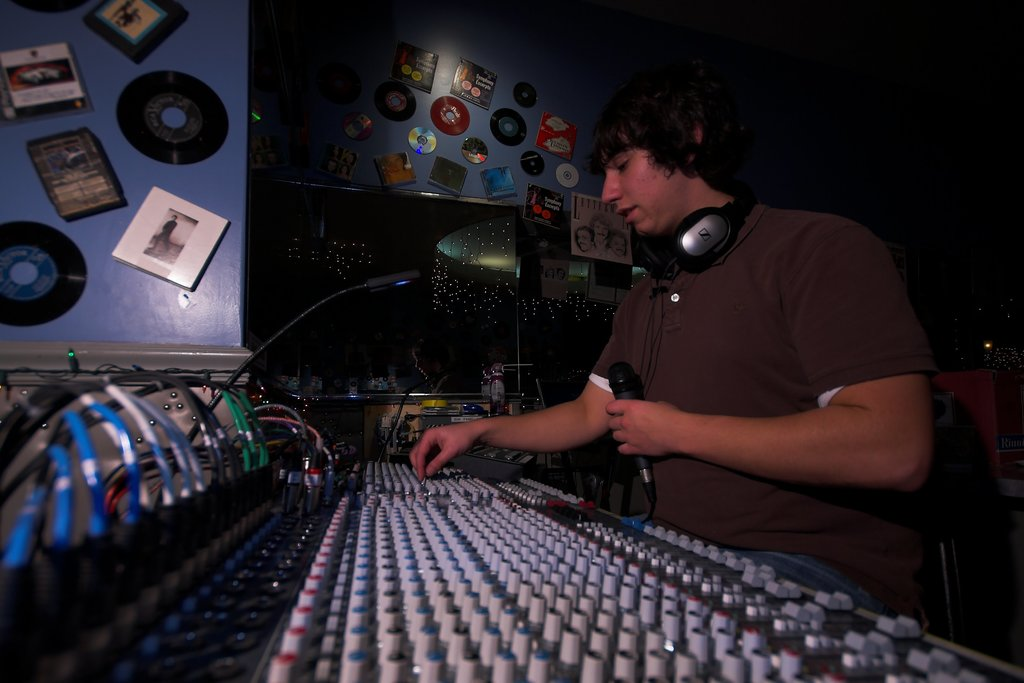Person: (409, 69, 939, 632)
